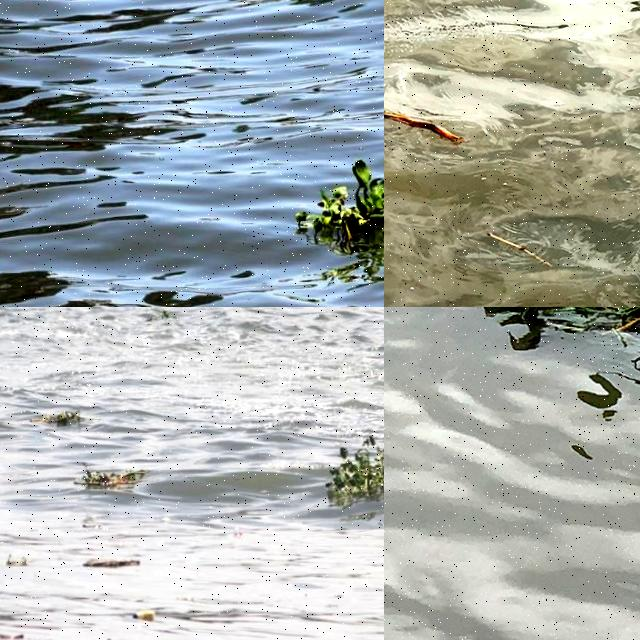water-hyacinth: (469, 308, 640, 381), (281, 152, 385, 252), (323, 432, 385, 505), (77, 463, 151, 489), (44, 408, 83, 425)
